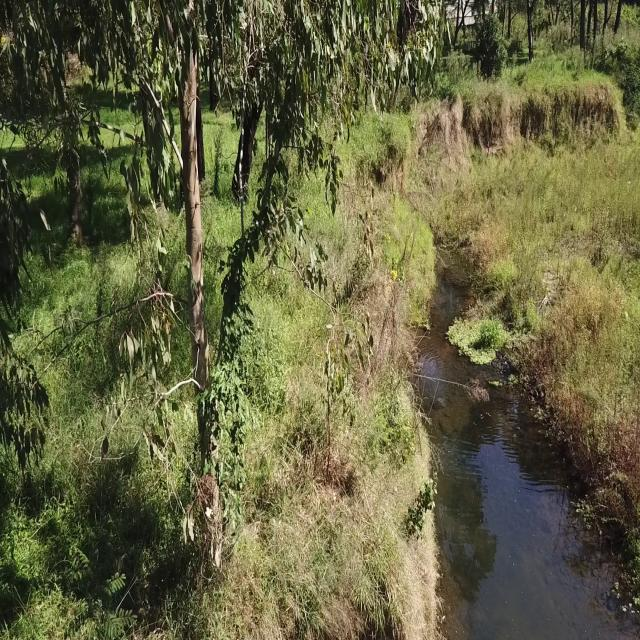Mysore-Thorn-Weed: (58, 542, 130, 633)
